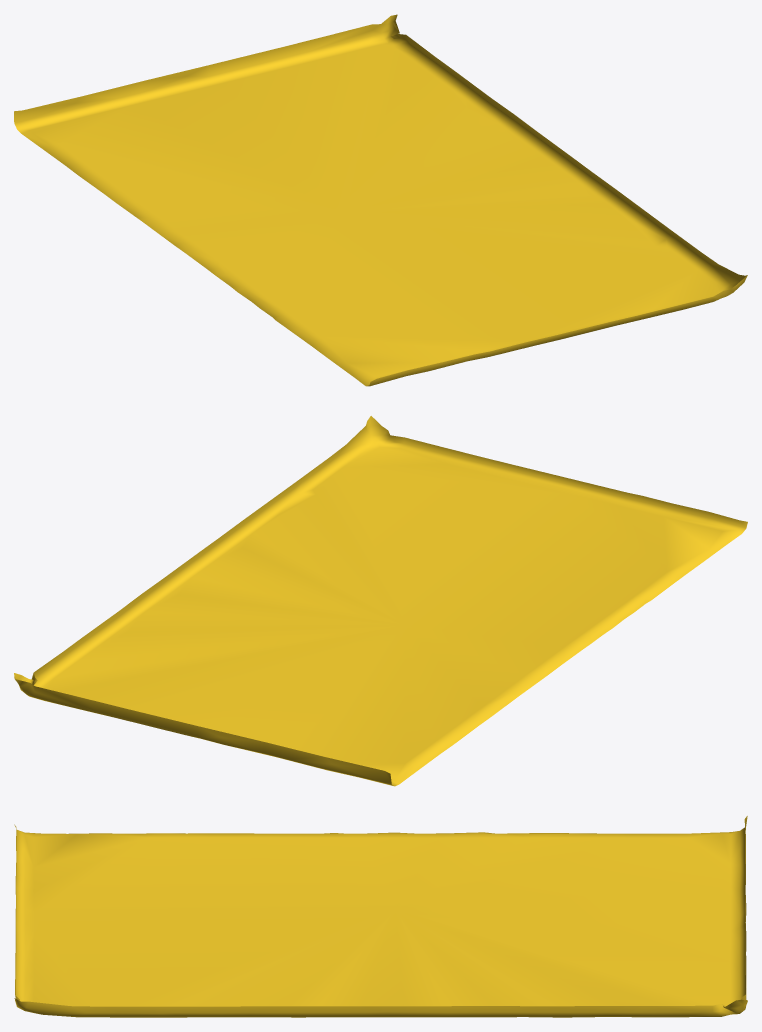
Rendered from SM_Medical_Cart_3_cloth.FBX.
The picture shows the model from 3 angles, top to bottom: view 1: azimuth 30°, elevation 25°; view 2: azimuth 150°, elevation 25°; view 3: azimuth 270°, elevation 25°; orthographic projection. The views are drawn at different scales.
Visible parts, largest first — view 1: Medical_Cart_3_cloth; view 2: Medical_Cart_3_cloth; view 3: Medical_Cart_3_cloth.
Boxes of the visible parts, x1=… form: Medical_Cart_3_cloth: x1=14, y1=14, x2=747, y2=386; Medical_Cart_3_cloth: x1=14, y1=416, x2=747, y2=786; Medical_Cart_3_cloth: x1=14, y1=816, x2=747, y2=1017.
Size of the model in its own units: 60.31 by 97.85 by 3.67.
